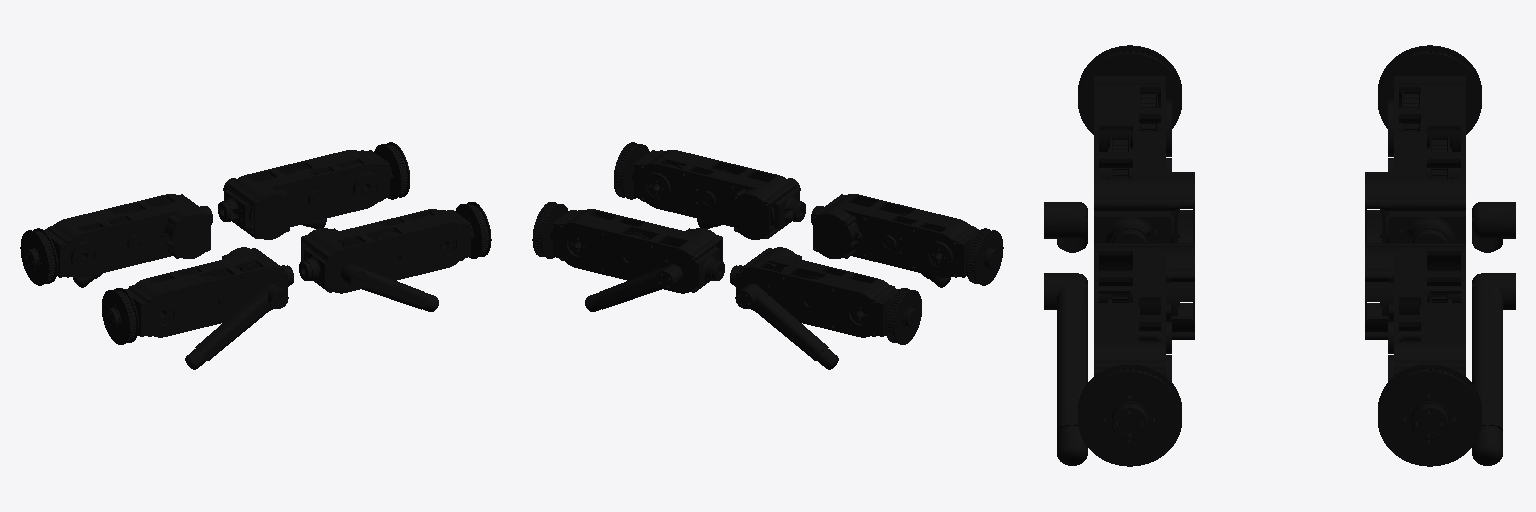
robot.urdf — mistletoe:
<?xml version="1.0" ?>
<!-- =================================================================================== -->
<!-- |    This document was autogenerated by xacro from mistletoe.xacro                | -->
<!-- |    EDITING THIS FILE BY HAND IS NOT RECOMMENDED                                 | -->
<!-- =================================================================================== -->
<robot name="mistletoe">
  <material name="silver_default">
    <color rgba="0.700 0.700 0.700 1.000"/>
  </material>
  <material name="plastic_glossy_black">
    <color rgba="0.09803921568627451 0.09803921568627451 0.09803921568627451 1.0"/>
  </material>
  <transmission name="KFE3_tran">
    <type>transmission_interface/SimpleTransmission</type>
    <joint name="KFE3">
      <hardwareInterface>hardware_interface/EffortJointInterface</hardwareInterface>
    </joint>
    <actuator name="KFE3_actr">
      <hardwareInterface>hardware_interface/EffortJointInterface</hardwareInterface>
      <mechanicalReduction>1</mechanicalReduction>
    </actuator>
  </transmission>
  <transmission name="HFE3_tran">
    <type>transmission_interface/SimpleTransmission</type>
    <joint name="HFE3">
      <hardwareInterface>hardware_interface/EffortJointInterface</hardwareInterface>
    </joint>
    <actuator name="HFE3_actr">
      <hardwareInterface>hardware_interface/EffortJointInterface</hardwareInterface>
      <mechanicalReduction>1</mechanicalReduction>
    </actuator>
  </transmission>
  <transmission name="HAA3_tran">
    <type>transmission_interface/SimpleTransmission</type>
    <joint name="HAA3">
      <hardwareInterface>hardware_interface/EffortJointInterface</hardwareInterface>
    </joint>
    <actuator name="HAA3_actr">
      <hardwareInterface>hardware_interface/EffortJointInterface</hardwareInterface>
      <mechanicalReduction>1</mechanicalReduction>
    </actuator>
  </transmission>
  <transmission name="HAA4_tran">
    <type>transmission_interface/SimpleTransmission</type>
    <joint name="HAA4">
      <hardwareInterface>hardware_interface/EffortJointInterface</hardwareInterface>
    </joint>
    <actuator name="HAA4_actr">
      <hardwareInterface>hardware_interface/EffortJointInterface</hardwareInterface>
      <mechanicalReduction>1</mechanicalReduction>
    </actuator>
  </transmission>
  <transmission name="HFE4_tran">
    <type>transmission_interface/SimpleTransmission</type>
    <joint name="HFE4">
      <hardwareInterface>hardware_interface/EffortJointInterface</hardwareInterface>
    </joint>
    <actuator name="HFE4_actr">
      <hardwareInterface>hardware_interface/EffortJointInterface</hardwareInterface>
      <mechanicalReduction>1</mechanicalReduction>
    </actuator>
  </transmission>
  <transmission name="KFE4_tran">
    <type>transmission_interface/SimpleTransmission</type>
    <joint name="KFE4">
      <hardwareInterface>hardware_interface/EffortJointInterface</hardwareInterface>
    </joint>
    <actuator name="KFE4_actr">
      <hardwareInterface>hardware_interface/EffortJointInterface</hardwareInterface>
      <mechanicalReduction>1</mechanicalReduction>
    </actuator>
  </transmission>
  <transmission name="HAA1_tran">
    <type>transmission_interface/SimpleTransmission</type>
    <joint name="HAA1">
      <hardwareInterface>hardware_interface/EffortJointInterface</hardwareInterface>
    </joint>
    <actuator name="HAA1_actr">
      <hardwareInterface>hardware_interface/EffortJointInterface</hardwareInterface>
      <mechanicalReduction>1</mechanicalReduction>
    </actuator>
  </transmission>
  <transmission name="HAA2_tran">
    <type>transmission_interface/SimpleTransmission</type>
    <joint name="HAA2">
      <hardwareInterface>hardware_interface/EffortJointInterface</hardwareInterface>
    </joint>
    <actuator name="HAA2_actr">
      <hardwareInterface>hardware_interface/EffortJointInterface</hardwareInterface>
      <mechanicalReduction>1</mechanicalReduction>
    </actuator>
  </transmission>
  <transmission name="HFE1_tran">
    <type>transmission_interface/SimpleTransmission</type>
    <joint name="HFE1">
      <hardwareInterface>hardware_interface/EffortJointInterface</hardwareInterface>
    </joint>
    <actuator name="HFE1_actr">
      <hardwareInterface>hardware_interface/EffortJointInterface</hardwareInterface>
      <mechanicalReduction>1</mechanicalReduction>
    </actuator>
  </transmission>
  <transmission name="HFE2_tran">
    <type>transmission_interface/SimpleTransmission</type>
    <joint name="HFE2">
      <hardwareInterface>hardware_interface/EffortJointInterface</hardwareInterface>
    </joint>
    <actuator name="HFE2_actr">
      <hardwareInterface>hardware_interface/EffortJointInterface</hardwareInterface>
      <mechanicalReduction>1</mechanicalReduction>
    </actuator>
  </transmission>
  <transmission name="KFE2_tran">
    <type>transmission_interface/SimpleTransmission</type>
    <joint name="KFE2">
      <hardwareInterface>hardware_interface/EffortJointInterface</hardwareInterface>
    </joint>
    <actuator name="KFE2_actr">
      <hardwareInterface>hardware_interface/EffortJointInterface</hardwareInterface>
      <mechanicalReduction>1</mechanicalReduction>
    </actuator>
  </transmission>
  <transmission name="KFE1_tran">
    <type>transmission_interface/SimpleTransmission</type>
    <joint name="KFE1">
      <hardwareInterface>hardware_interface/EffortJointInterface</hardwareInterface>
    </joint>
    <actuator name="KFE1_actr">
      <hardwareInterface>hardware_interface/EffortJointInterface</hardwareInterface>
      <mechanicalReduction>1</mechanicalReduction>
    </actuator>
  </transmission>
  <link name="base_link">
    <inertial>
      <origin rpy="0 0 0" xyz="-0.06657859086794671 0.12180227598730436 0.027661254547312438"/>
      <mass value="2.781822888066483"/>
      <inertia ixx="0.012347" ixy="-3e-06" ixz="-4.1e-05" iyy="0.169247" iyz="0.0" izz="0.177361"/>
    </inertial>
    <visual>
      <origin rpy="0 0 0" xyz="0 0 0"/>
      <geometry>
        <mesh filename="package://mistletoe_description/meshes/base_link.stl" scale="0.001 0.001 0.001"/>
      </geometry>
      <material name="plastic_glossy_black"/>
    </visual>
    <collision>
      <origin rpy="0 0 0" xyz="0 0 0"/>
      <geometry>
        <mesh filename="package://mistletoe_description/meshes/base_link.stl" scale="0.001 0.001 0.001"/>
      </geometry>
    </collision>
  </link>
  <link name="ANKLE_v4_1">
    <inertial>
      <origin rpy="0 0 0" xyz="0.05969551525022496 0.02164768809099367 -0.034465214950969866"/>
      <mass value="0.0707595437253254"/>
      <inertia ixx="5.5e-05" ixy="-4e-06" ixz="8e-05" iyy="0.000193" iyz="3e-06" izz="0.000147"/>
    </inertial>
    <visual>
      <origin rpy="0 0 0" xyz="-0.002 0.0695 -0.025"/>
      <geometry>
        <mesh filename="package://mistletoe_description/meshes/ANKLE_v4_1.stl" scale="0.001 0.001 0.001"/>
      </geometry>
      <material name="plastic_glossy_black"/>
    </visual>
    <collision>
      <origin rpy="0 0 0" xyz="-0.002 0.0695 -0.025"/>
      <geometry>
        <mesh filename="package://mistletoe_description/meshes/ANKLE_v4_1.stl" scale="0.001 0.001 0.001"/>
      </geometry>
    </collision>
  </link>
  <link name="ACTUATOR_V2.1__KNEE__v10_1">
    <inertial>
      <origin rpy="0 0 0" xyz="-0.053095905532469054 -0.06025650205456463 -6.906335524088647e-06"/>
      <mass value="0.6687419456686833"/>
      <inertia ixx="0.000581" ixy="-0.000492" ixz="0.0" iyy="0.003897" iyz="0.0" izz="0.004059"/>
    </inertial>
    <visual>
      <origin rpy="0 0 0" xyz="-0.17787 0.025 -0.025"/>
      <geometry>
        <mesh filename="package://mistletoe_description/meshes/ACTUATOR_V2.1__KNEE__v10_1.stl" scale="0.001 0.001 0.001"/>
      </geometry>
      <material name="plastic_glossy_black"/>
    </visual>
    <collision>
      <origin rpy="0 0 0" xyz="-0.17787 0.025 -0.025"/>
      <geometry>
        <mesh filename="package://mistletoe_description/meshes/ACTUATOR_V2.1__KNEE__v10_1.stl" scale="0.001 0.001 0.001"/>
      </geometry>
    </collision>
  </link>
  <link name="Hip_1">
    <inertial>
      <origin rpy="0 0 0" xyz="-0.1675167715088863 0.008238257074782459 -5.174132261531739e-09"/>
      <mass value="0.5600707780907046"/>
      <inertia ixx="0.000428" ixy="0.000319" ixz="-0.0" iyy="0.004847" iyz="-0.0" izz="0.004917"/>
    </inertial>
    <visual>
      <origin rpy="0 0 0" xyz="-0.255776 -0.0 -0.025"/>
      <geometry>
        <mesh filename="package://mistletoe_description/meshes/Hip_1.stl" scale="0.001 0.001 0.001"/>
      </geometry>
      <material name="plastic_glossy_black"/>
    </visual>
    <collision>
      <origin rpy="0 0 0" xyz="-0.255776 -0.0 -0.025"/>
      <geometry>
        <mesh filename="package://mistletoe_description/meshes/Hip_1.stl" scale="0.001 0.001 0.001"/>
      </geometry>
    </collision>
  </link>
  <link name="Hip_2">
    <inertial>
      <origin rpy="0 0 0" xyz="-0.1675167715088863 -0.008238257074782096 5.174132615415328e-09"/>
      <mass value="0.5600707780907046"/>
      <inertia ixx="0.000428" ixy="-0.000319" ixz="0.0" iyy="0.004847" iyz="-0.0" izz="0.004917"/>
    </inertial>
    <visual>
      <origin rpy="0 0 0" xyz="-0.255776 -0.243608 -0.025"/>
      <geometry>
        <mesh filename="package://mistletoe_description/meshes/Hip_2.stl" scale="0.001 0.001 0.001"/>
      </geometry>
      <material name="plastic_glossy_black"/>
    </visual>
    <collision>
      <origin rpy="0 0 0" xyz="-0.255776 -0.243608 -0.025"/>
      <geometry>
        <mesh filename="package://mistletoe_description/meshes/Hip_2.stl" scale="0.001 0.001 0.001"/>
      </geometry>
    </collision>
  </link>
  <link name="ACTUATOR_V2.1__KNEE__v10_2">
    <inertial>
      <origin rpy="0 0 0" xyz="-0.05309590553246825 0.0602565020545649 6.906335525407037e-06"/>
      <mass value="0.6687419456686833"/>
      <inertia ixx="0.000581" ixy="0.000492" ixz="-0.0" iyy="0.003897" iyz="0.0" izz="0.004059"/>
    </inertial>
    <visual>
      <origin rpy="0 0 0" xyz="-0.17787 -0.268608 -0.025"/>
      <geometry>
        <mesh filename="package://mistletoe_description/meshes/ACTUATOR_V2.1__KNEE__v10_2.stl" scale="0.001 0.001 0.001"/>
      </geometry>
      <material name="plastic_glossy_black"/>
    </visual>
    <collision>
      <origin rpy="0 0 0" xyz="-0.17787 -0.268608 -0.025"/>
      <geometry>
        <mesh filename="package://mistletoe_description/meshes/ACTUATOR_V2.1__KNEE__v10_2.stl" scale="0.001 0.001 0.001"/>
      </geometry>
    </collision>
  </link>
  <link name="ANKLE_v4_2">
    <inertial>
      <origin rpy="0 0 0" xyz="0.059695509319545356 -0.021647688090992268 -0.034465225223213346"/>
      <mass value="0.0707595437253254"/>
      <inertia ixx="5.5e-05" ixy="4e-06" ixz="8e-05" iyy="0.000193" iyz="-3e-06" izz="0.000147"/>
    </inertial>
    <visual>
      <origin rpy="0 0 0" xyz="-0.002 -0.313108 -0.025"/>
      <geometry>
        <mesh filename="package://mistletoe_description/meshes/ANKLE_v4_2.stl" scale="0.001 0.001 0.001"/>
      </geometry>
      <material name="plastic_glossy_black"/>
    </visual>
    <collision>
      <origin rpy="0 0 0" xyz="-0.002 -0.313108 -0.025"/>
      <geometry>
        <mesh filename="package://mistletoe_description/meshes/ANKLE_v4_2.stl" scale="0.001 0.001 0.001"/>
      </geometry>
    </collision>
  </link>
  <link name="Hip_3">
    <inertial>
      <origin rpy="0 0 0" xyz="0.16751677150888733 0.008238257074779359 5.174144071529163e-09"/>
      <mass value="0.5600707780907046"/>
      <inertia ixx="0.000428" ixy="-0.000319" ixz="-0.0" iyy="0.004847" iyz="0.0" izz="0.004917"/>
    </inertial>
    <visual>
      <origin rpy="0 0 0" xyz="0.389589 0.0 -0.025"/>
      <geometry>
        <mesh filename="package://mistletoe_description/meshes/Hip_3.stl" scale="0.001 0.001 0.001"/>
      </geometry>
      <material name="plastic_glossy_black"/>
    </visual>
    <collision>
      <origin rpy="0 0 0" xyz="0.389589 0.0 -0.025"/>
      <geometry>
        <mesh filename="package://mistletoe_description/meshes/Hip_3.stl" scale="0.001 0.001 0.001"/>
      </geometry>
    </collision>
  </link>
  <link name="Hip_4">
    <inertial>
      <origin rpy="0 0 0" xyz="0.16751677150888733 -0.008238257074783317 -5.174120409900951e-09"/>
      <mass value="0.5600707780907046"/>
      <inertia ixx="0.000428" ixy="0.000319" ixz="0.0" iyy="0.004847" iyz="0.0" izz="0.004917"/>
    </inertial>
    <visual>
      <origin rpy="0 0 0" xyz="0.389589 -0.243608 -0.025"/>
      <geometry>
        <mesh filename="package://mistletoe_description/meshes/Hip_4.stl" scale="0.001 0.001 0.001"/>
      </geometry>
      <material name="plastic_glossy_black"/>
    </visual>
    <collision>
      <origin rpy="0 0 0" xyz="0.389589 -0.243608 -0.025"/>
      <geometry>
        <mesh filename="package://mistletoe_description/meshes/Hip_4.stl" scale="0.001 0.001 0.001"/>
      </geometry>
    </collision>
  </link>
  <link name="ACTUATOR_V2.1__KNEE__v10_3">
    <inertial>
      <origin rpy="0 0 0" xyz="0.05309590553246918 -0.06025650205456722 6.906335536540492e-06"/>
      <mass value="0.6687419456686833"/>
      <inertia ixx="0.000581" ixy="0.000492" ixz="0.0" iyy="0.003897" iyz="-0.0" izz="0.004059"/>
    </inertial>
    <visual>
      <origin rpy="0 0 0" xyz="0.311683 0.025 -0.025"/>
      <geometry>
        <mesh filename="package://mistletoe_description/meshes/ACTUATOR_V2.1__KNEE__v10_3.stl" scale="0.001 0.001 0.001"/>
      </geometry>
      <material name="plastic_glossy_black"/>
    </visual>
    <collision>
      <origin rpy="0 0 0" xyz="0.311683 0.025 -0.025"/>
      <geometry>
        <mesh filename="package://mistletoe_description/meshes/ACTUATOR_V2.1__KNEE__v10_3.stl" scale="0.001 0.001 0.001"/>
      </geometry>
    </collision>
  </link>
  <link name="ACTUATOR_V2.1__KNEE__v10_4">
    <inertial>
      <origin rpy="0 0 0" xyz="0.05309590553246907 0.06025650205456318 -6.906335511872724e-06"/>
      <mass value="0.6687419456686833"/>
      <inertia ixx="0.000581" ixy="-0.000492" ixz="-0.0" iyy="0.003897" iyz="-0.0" izz="0.004059"/>
    </inertial>
    <visual>
      <origin rpy="0 0 0" xyz="0.311683 -0.268608 -0.025"/>
      <geometry>
        <mesh filename="package://mistletoe_description/meshes/ACTUATOR_V2.1__KNEE__v10_4.stl" scale="0.001 0.001 0.001"/>
      </geometry>
      <material name="plastic_glossy_black"/>
    </visual>
    <collision>
      <origin rpy="0 0 0" xyz="0.311683 -0.268608 -0.025"/>
      <geometry>
        <mesh filename="package://mistletoe_description/meshes/ACTUATOR_V2.1__KNEE__v10_4.stl" scale="0.001 0.001 0.001"/>
      </geometry>
    </collision>
  </link>
  <link name="ANKLE_v4_3">
    <inertial>
      <origin rpy="0 0 0" xyz="-0.059695515250226594 -0.021647688090993877 -0.034465214950958015"/>
      <mass value="0.0707595437253254"/>
      <inertia ixx="5.5e-05" ixy="-4e-06" ixz="-8e-05" iyy="0.000193" iyz="-3e-06" izz="0.000147"/>
    </inertial>
    <visual>
      <origin rpy="0 0 0" xyz="0.135813 -0.313108 -0.025"/>
      <geometry>
        <mesh filename="package://mistletoe_description/meshes/ANKLE_v4_3.stl" scale="0.001 0.001 0.001"/>
      </geometry>
      <material name="plastic_glossy_black"/>
    </visual>
    <collision>
      <origin rpy="0 0 0" xyz="0.135813 -0.313108 -0.025"/>
      <geometry>
        <mesh filename="package://mistletoe_description/meshes/ANKLE_v4_3.stl" scale="0.001 0.001 0.001"/>
      </geometry>
    </collision>
  </link>
  <link name="ANKLE_v4_4">
    <inertial>
      <origin rpy="0 0 0" xyz="-0.05969550931954576 0.02164768809099009 -0.03446522522320032"/>
      <mass value="0.0707595437253254"/>
      <inertia ixx="5.5e-05" ixy="4e-06" ixz="-8e-05" iyy="0.000193" iyz="3e-06" izz="0.000147"/>
    </inertial>
    <visual>
      <origin rpy="0 0 0" xyz="0.135813 0.0695 -0.025"/>
      <geometry>
        <mesh filename="package://mistletoe_description/meshes/ANKLE_v4_4.stl" scale="0.001 0.001 0.001"/>
      </geometry>
      <material name="plastic_glossy_black"/>
    </visual>
    <collision>
      <origin rpy="0 0 0" xyz="0.135813 0.0695 -0.025"/>
      <geometry>
        <mesh filename="package://mistletoe_description/meshes/ANKLE_v4_4.stl" scale="0.001 0.001 0.001"/>
      </geometry>
    </collision>
  </link>
  <joint name="KFE3" type="continuous">
    <origin rpy="0 0 0" xyz="-0.17587 -0.0445 0.0"/>
    <parent link="ACTUATOR_V2.1__KNEE__v10_1"/>
    <child link="ANKLE_v4_1"/>
    <axis xyz="0.0 -1.0 0.0"/>
  </joint>
  <joint name="HFE3" type="continuous">
    <origin rpy="0 0 0" xyz="-0.077906 -0.025 0.0"/>
    <parent link="Hip_1"/>
    <child link="ACTUATOR_V2.1__KNEE__v10_1"/>
    <axis xyz="0.0 1.0 -0.0"/>
  </joint>
  <joint name="HAA3" type="continuous">
    <origin rpy="0 0 0" xyz="0.255776 0.0 0.025"/>
    <parent link="base_link"/>
    <child link="Hip_1"/>
    <axis xyz="-1.0 0.0 0.0"/>
  </joint>
  <joint name="HAA4" type="continuous">
    <origin rpy="0 0 0" xyz="0.255776 0.243608 0.025"/>
    <parent link="base_link"/>
    <child link="Hip_2"/>
    <axis xyz="1.0 0.0 -0.0"/>
  </joint>
  <joint name="HFE4" type="continuous">
    <origin rpy="0 0 0" xyz="-0.077906 0.025 0.0"/>
    <parent link="Hip_2"/>
    <child link="ACTUATOR_V2.1__KNEE__v10_2"/>
    <axis xyz="0.0 -1.0 0.0"/>
  </joint>
  <joint name="KFE4" type="continuous">
    <origin rpy="0 0 0" xyz="-0.17587 0.0445 0.0"/>
    <parent link="ACTUATOR_V2.1__KNEE__v10_2"/>
    <child link="ANKLE_v4_2"/>
    <axis xyz="0.0 1.0 -0.0"/>
  </joint>
  <joint name="HAA1" type="continuous">
    <origin rpy="0 0 0" xyz="-0.389589 0.0 0.025"/>
    <parent link="base_link"/>
    <child link="Hip_3"/>
    <axis xyz="1.0 0.0 -0.0"/>
  </joint>
  <joint name="HAA2" type="continuous">
    <origin rpy="0 0 0" xyz="-0.389589 0.243608 0.025"/>
    <parent link="base_link"/>
    <child link="Hip_4"/>
    <axis xyz="1.0 0.0 -0.0"/>
  </joint>
  <joint name="HFE1" type="continuous">
    <origin rpy="0 0 0" xyz="0.077906 -0.025 0.0"/>
    <parent link="Hip_3"/>
    <child link="ACTUATOR_V2.1__KNEE__v10_3"/>
    <axis xyz="-0.0 1.0 -0.0"/>
  </joint>
  <joint name="HFE2" type="continuous">
    <origin rpy="0 0 0" xyz="0.077906 0.025 0.0"/>
    <parent link="Hip_4"/>
    <child link="ACTUATOR_V2.1__KNEE__v10_4"/>
    <axis xyz="-0.0 -1.0 -0.0"/>
  </joint>
  <joint name="KFE2" type="continuous">
    <origin rpy="0 0 0" xyz="0.17587 0.0445 0.0"/>
    <parent link="ACTUATOR_V2.1__KNEE__v10_4"/>
    <child link="ANKLE_v4_3"/>
    <axis xyz="-0.0 1.0 0.0"/>
  </joint>
  <joint name="KFE1" type="continuous">
    <origin rpy="0 0 0" xyz="0.17587 -0.0445 0.0"/>
    <parent link="ACTUATOR_V2.1__KNEE__v10_3"/>
    <child link="ANKLE_v4_4"/>
    <axis xyz="-0.0 -1.0 0.0"/>
  </joint>
</robot>

--- What the picture shows (computed from the rendered views, not written in the file) ---
The picture shows the robot from 3 angles, left to right: view 1: azimuth 30°, elevation 25°; view 2: azimuth 150°, elevation 25°; view 3: azimuth 270°, elevation 25°; orthographic projection.
Robot: mistletoe — 13 links, 12 joints (12 continuous); root link base_link; default pose: every joint at zero.
Visible links, largest first — view 1: Hip_4, Hip_2, Hip_1, Hip_3, ANKLE_v4_4, ANKLE_v4_1; view 2: Hip_3, Hip_1, Hip_2, Hip_4, ANKLE_v4_3, ANKLE_v4_2; view 3: Hip_1, Hip_2, Hip_3, Hip_4, ANKLE_v4_1, ANKLE_v4_2, ANKLE_v4_3, ANKLE_v4_4.
Link boxes in pixels (x1,y1,x2,y2): Hip_4: (20, 194, 212, 285); Hip_2: (218, 142, 409, 239); Hip_1: (299, 202, 491, 293); Hip_3: (102, 247, 293, 344); ANKLE_v4_4: (185, 284, 288, 369); ANKLE_v4_1: (341, 264, 438, 311); Hip_3: (811, 194, 1003, 285); Hip_1: (614, 142, 805, 239); Hip_2: (532, 202, 724, 293); Hip_4: (730, 247, 921, 344); ANKLE_v4_3: (735, 284, 838, 369); ANKLE_v4_2: (585, 264, 682, 311); Hip_1: (1078, 243, 1194, 466); Hip_2: (1365, 243, 1481, 466); Hip_3: (1078, 45, 1194, 242); Hip_4: (1365, 45, 1481, 242); ANKLE_v4_1: (1044, 273, 1087, 465); ANKLE_v4_2: (1472, 273, 1515, 465); ANKLE_v4_3: (1472, 202, 1515, 252); ANKLE_v4_4: (1044, 202, 1087, 252).
Bounding box of the posed robot: 0.6454 × 0.3826 × 0.1344 m (x, y, z).
8 mesh visuals loaded from 13 distinct referenced files (8 binary STL); not drawn: 5 (reference not matched to a file when rendering).